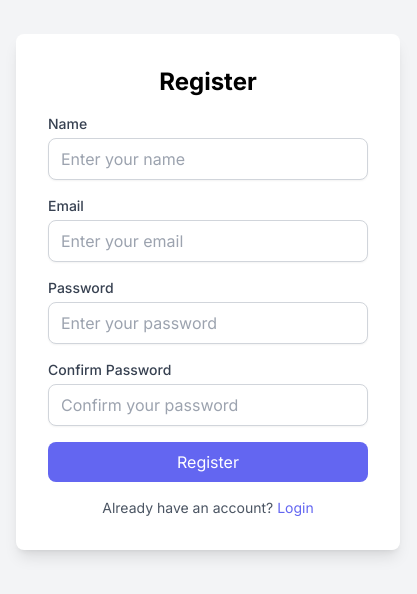
Test case: RegisterPage Component › shows a success message when registration is successful
The image size is (417, 594).
Type "John Doe" into the field with placeholder "Enter your name".
click(208, 159); type("John Doe")  # box [48,138,368,180]
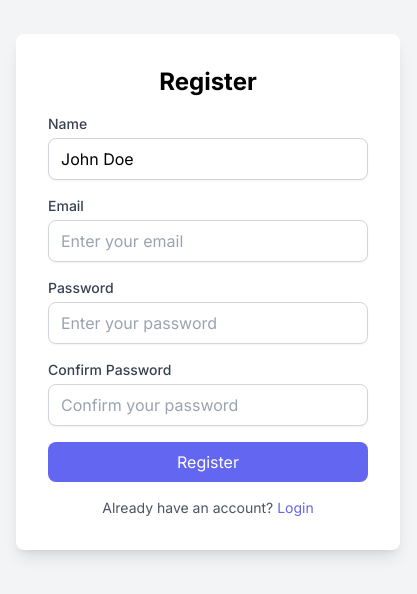
Type "john@example.com" into the field with placeholder "Enter your email".
click(208, 241); type("john@example.com")  # box [48,220,368,262]
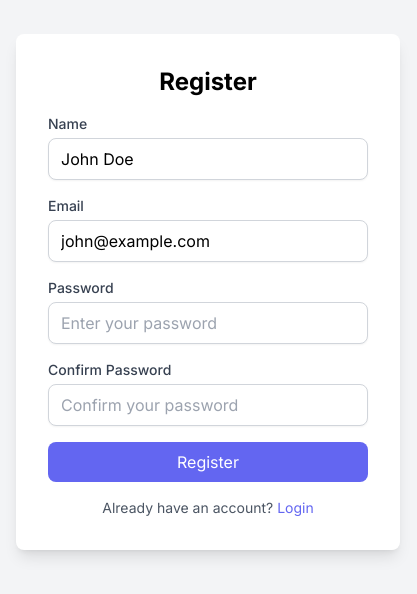
Type "password123" into the password field with placeholder "Enter your password".
click(208, 323); type("password123")  # box [48,302,368,344]
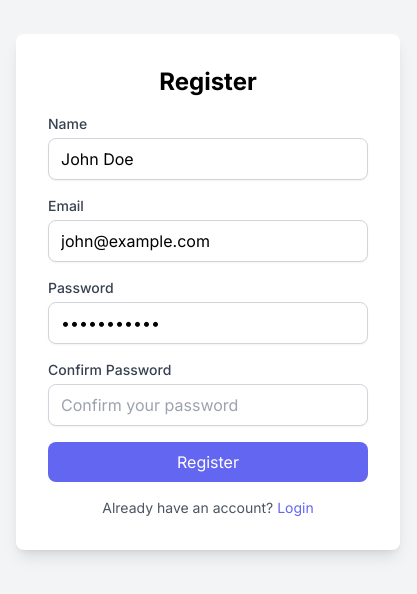
Type "password123" into the password field with placeholder "Confirm your password".
click(208, 405); type("password123")  # box [48,384,368,426]
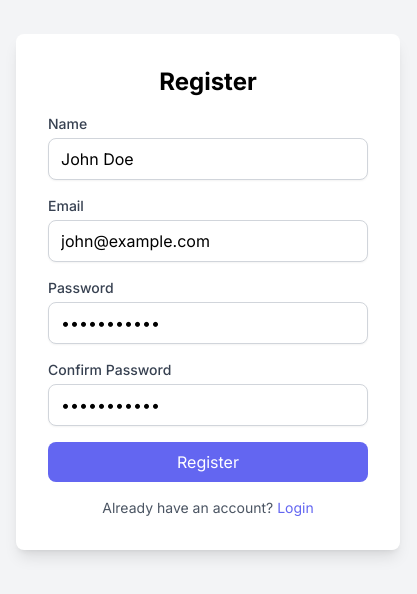
Click the button "Register".
click(208, 462)  # box [48,442,368,482]
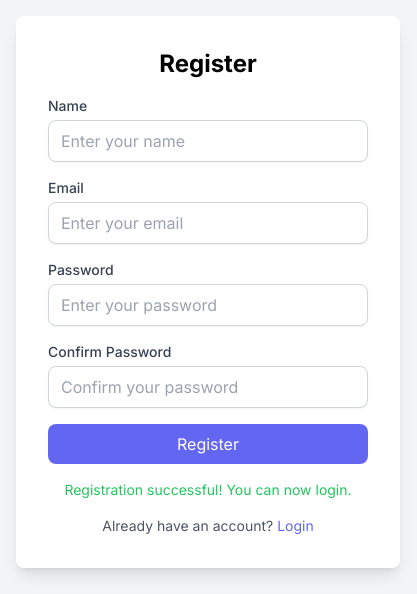
Expected: the text "Registration successful! You can now login." is shown, [48,480,368,500]
